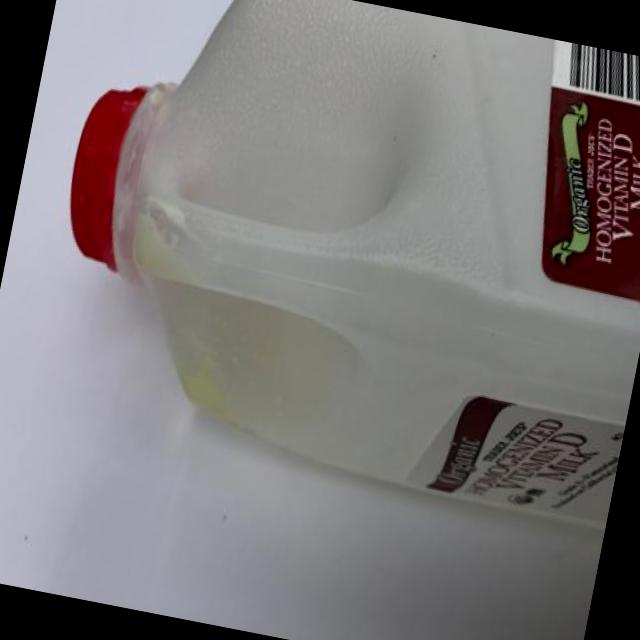Recycle: (21, 0, 640, 536)
